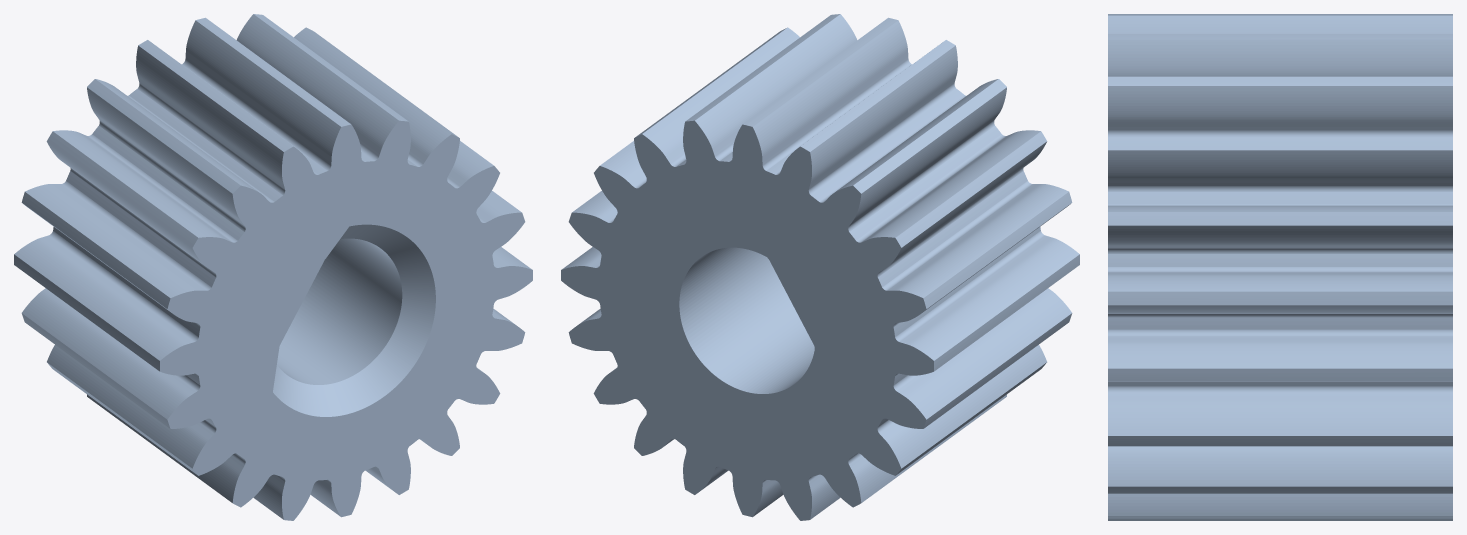
File: zupcanik1.obj
3 renders of one model, left to right at view 1: azimuth 30°, elevation 25°; view 2: azimuth 150°, elevation 25°; view 3: azimuth 270°, elevation 25°, orthographic. The views are drawn at different scales.
Visible parts, largest first — view 1: zupcanik1; view 2: zupcanik1; view 3: zupcanik1.
Boxes of the visible parts, left/top/right/bottom form: zupcanik1: left=14, top=14, right=532, bottom=520; zupcanik1: left=561, top=14, right=1079, bottom=520; zupcanik1: left=1108, top=14, right=1452, bottom=520.
Size of the model in its own units: 22.16 by 22.16 by 15.
